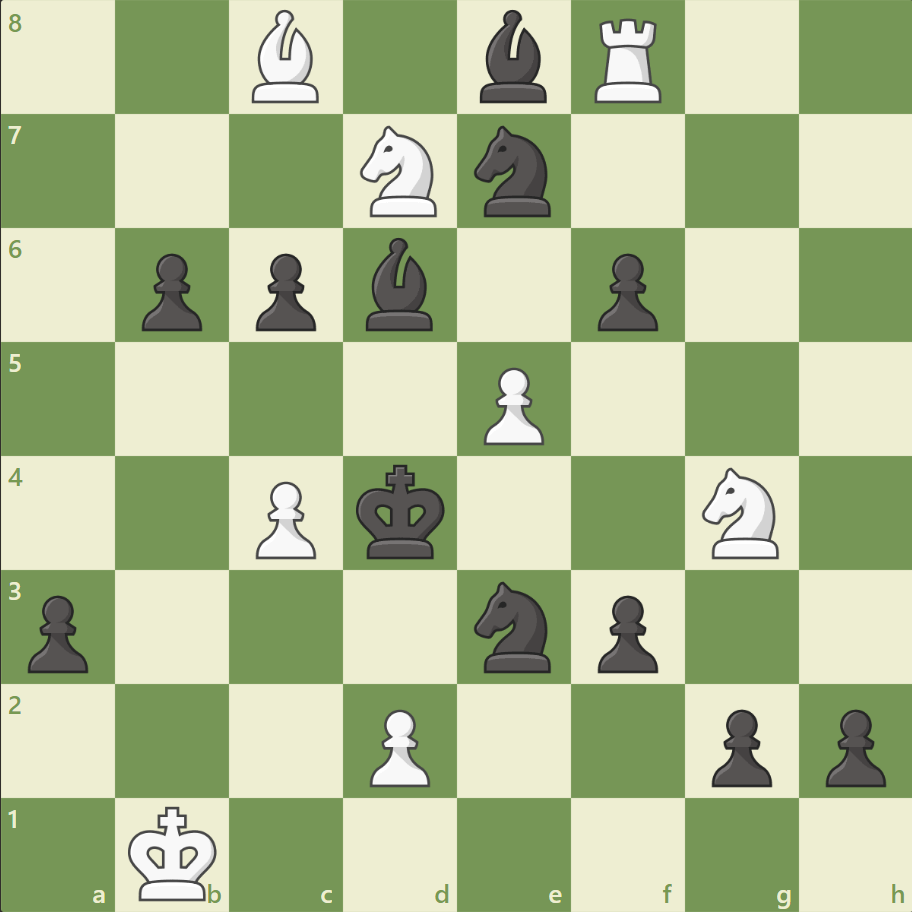B: (244, 6, 328, 109)
K: (124, 798, 224, 906)
N: (351, 121, 449, 223), (692, 461, 789, 564)
P: (474, 359, 549, 450), (247, 473, 322, 564), (361, 700, 435, 791)
R: (587, 12, 670, 109)
b: (471, 6, 555, 109), (358, 233, 442, 336)
k: (351, 458, 451, 566)
n: (465, 121, 562, 223), (465, 575, 562, 677)
p: (133, 246, 208, 337), (247, 246, 322, 337), (20, 586, 95, 677), (701, 700, 776, 791), (588, 246, 662, 337), (588, 586, 662, 677), (815, 700, 889, 791)
